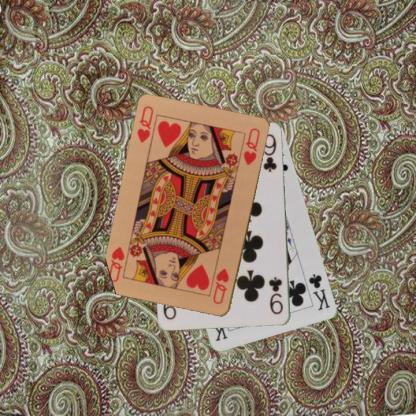9c: (266, 274, 284, 316)
Kc: (307, 271, 332, 312)
Qh: (210, 265, 230, 306), (134, 104, 154, 144)
